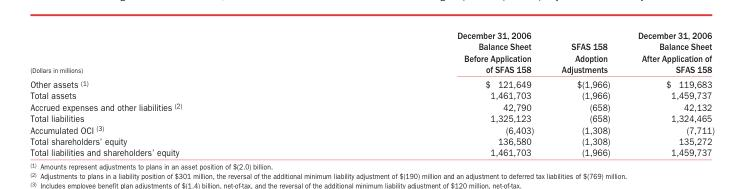table: (29, 29, 713, 157)
table column: (29, 29, 318, 157), (318, 29, 546, 157), (623, 29, 713, 157), (546, 29, 623, 157)
table column header: (29, 29, 713, 76)
table row: (29, 29, 713, 76), (29, 76, 713, 89), (29, 100, 713, 112), (29, 123, 713, 135), (29, 89, 713, 100), (29, 112, 713, 123), (29, 135, 713, 146), (29, 146, 713, 157)
